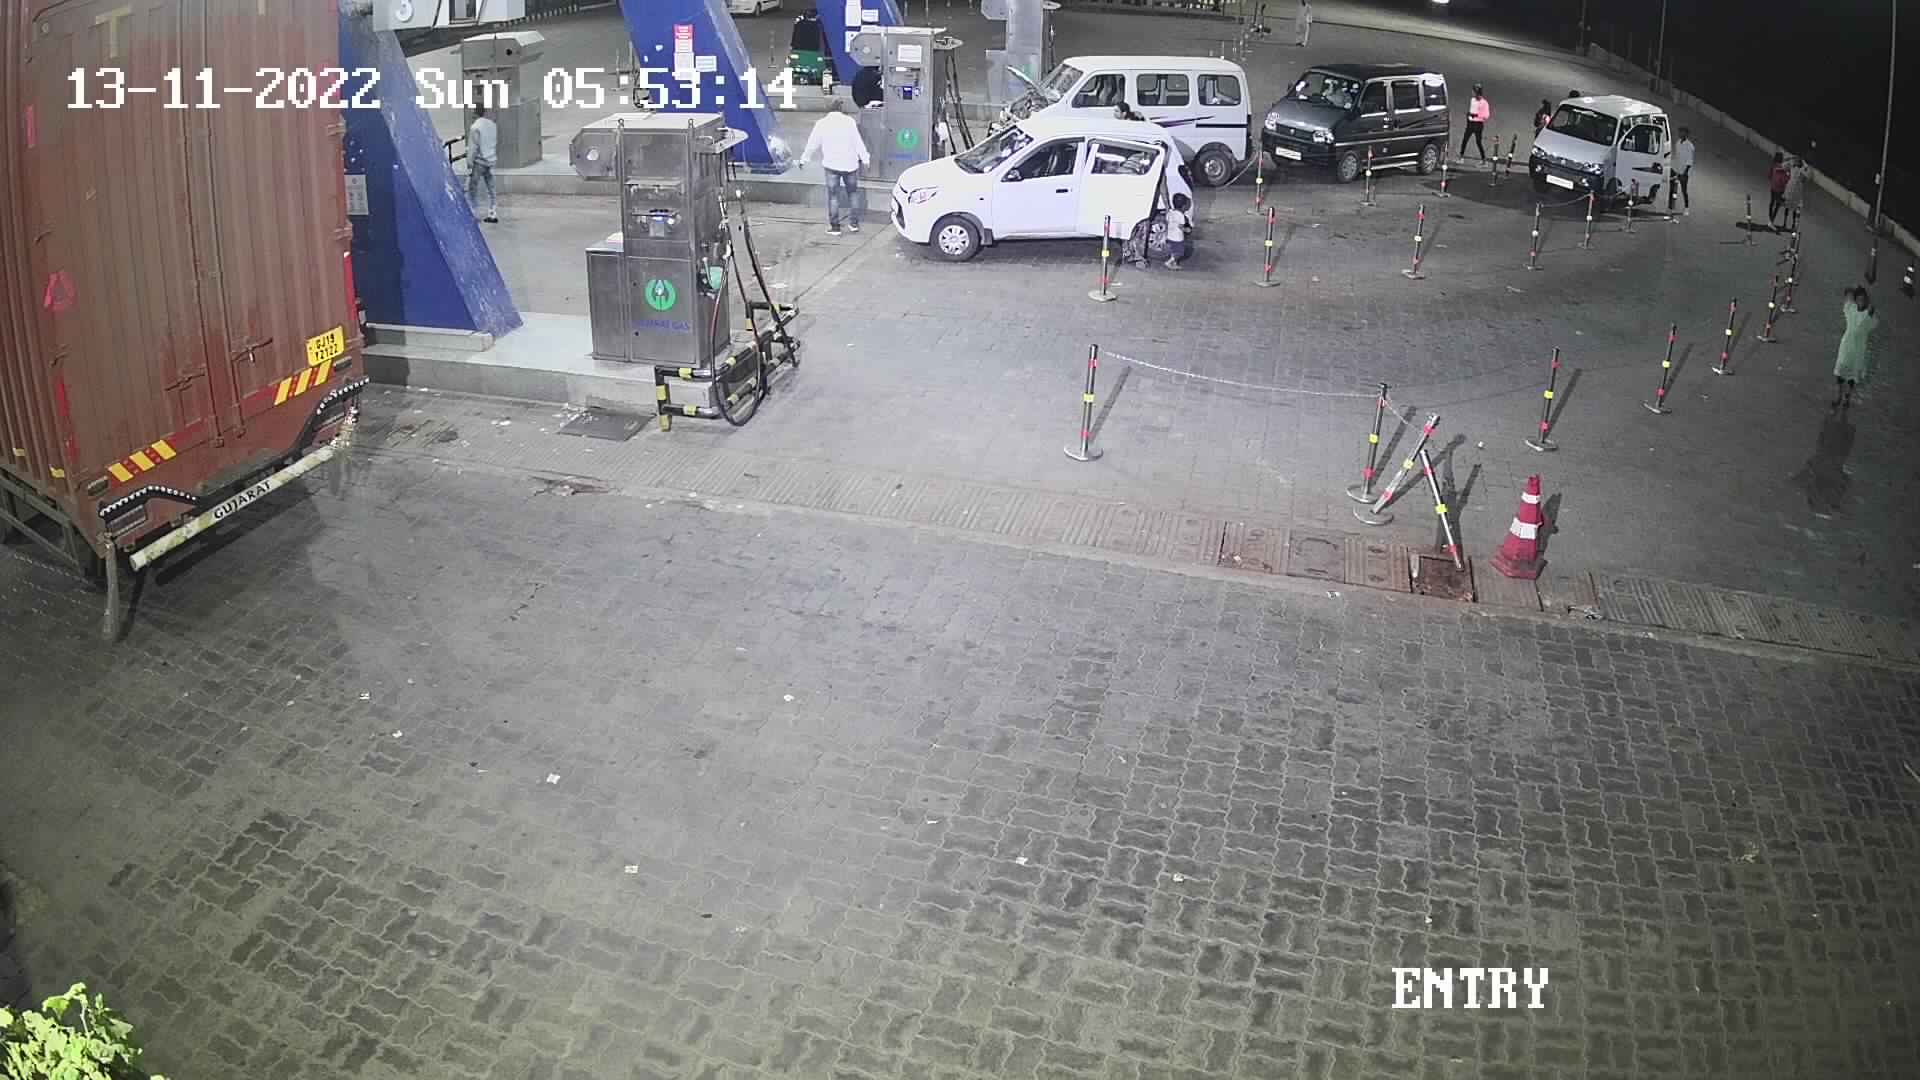Auto: (779, 0, 851, 109)
Car: (885, 99, 1209, 273), (978, 51, 1265, 194), (1251, 47, 1468, 189), (1514, 83, 1683, 220)
HMV: (13, 0, 390, 632)
